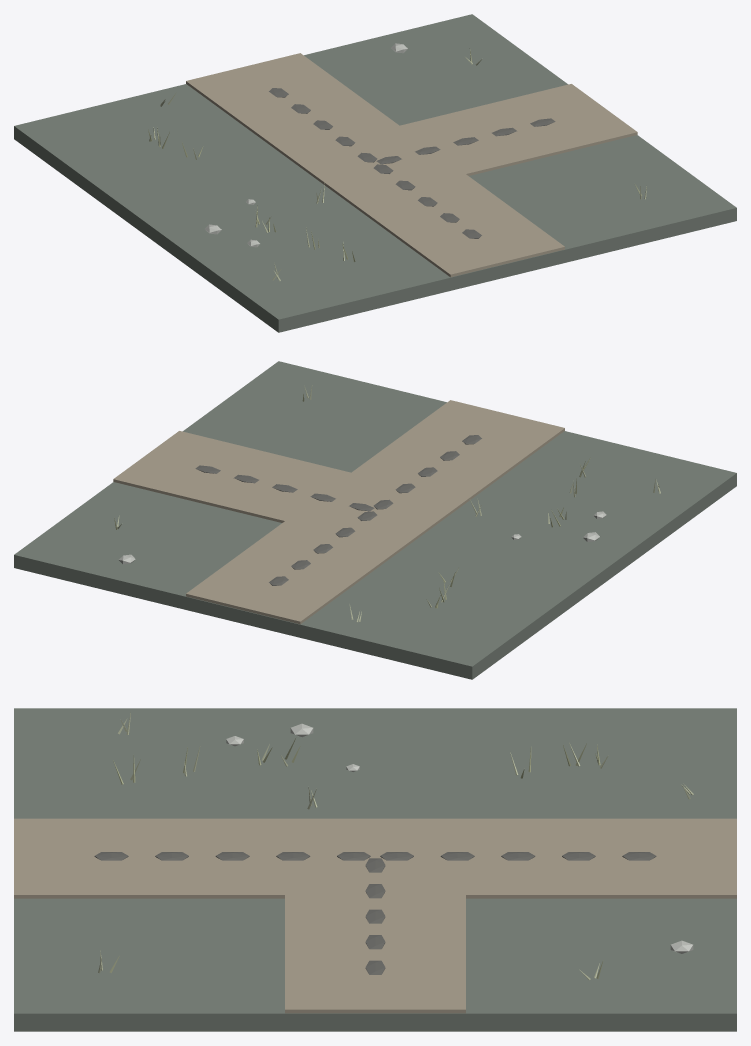
Rendered from path_tee_nes.glb.
The picture shows the model from 3 angles, top to bottom: view 1: azimuth 30°, elevation 25°; view 2: azimuth 150°, elevation 25°; view 3: azimuth 270°, elevation 25°; orthographic projection. The views are drawn at different scales.
Parts seen in each view (by area): view 1: road_material_00, road_material_01, road_material_05; view 2: road_material_00, road_material_01, road_material_05; view 3: road_material_00, road_material_01, road_material_05, road_material_03, road_material_04, road_material_02.
Part boxes in pixels (x1,y1,x2,y2): road_material_00: [14, 14, 736, 332]; road_material_01: [186, 53, 637, 277]; road_material_05: [269, 88, 555, 238]; road_material_00: [14, 361, 736, 679]; road_material_01: [113, 400, 564, 624]; road_material_05: [195, 435, 481, 585]; road_material_00: [14, 708, 736, 1031]; road_material_01: [14, 818, 736, 1013]; road_material_05: [94, 852, 656, 974]; road_material_03: [98, 712, 693, 980]; road_material_04: [226, 723, 693, 953]; road_material_02: [109, 738, 603, 978].
Size of the model in its own units: 8 by 0.5372 by 8.
